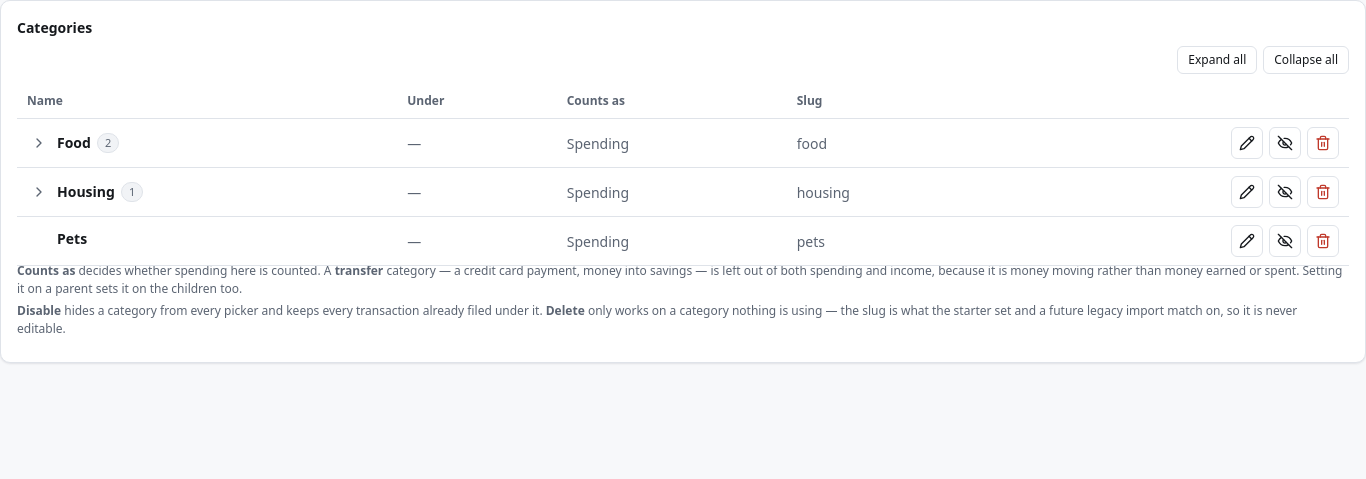
Test: CategoriesPanel accordions › opens and closes one parent without touching the others, and says what the arrow will do
Click the button named "Show 2 subcategories of Food": (39, 142) 27,130 -> 51,154
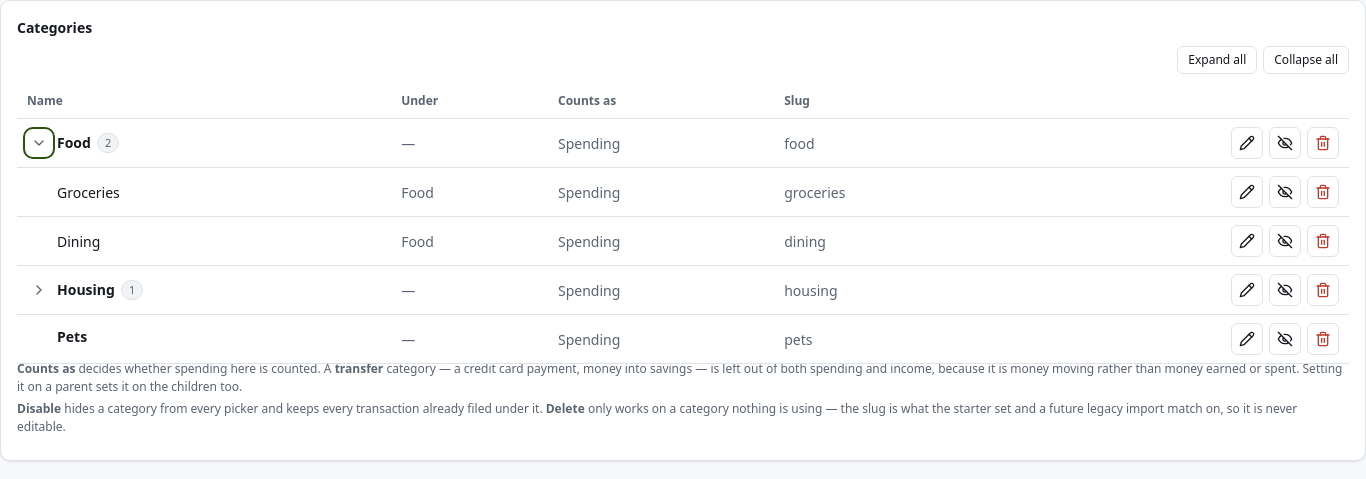
Result: the text "Groceries" is shown at 57,182 -> 120,202
Result: the text "Dining" is shown at 57,232 -> 100,250
Result: the button named "Hide 2 subcategories of Food" is expanded
Click the button named "Hide 2 subcategories of Food": (39, 142) 27,130 -> 51,154
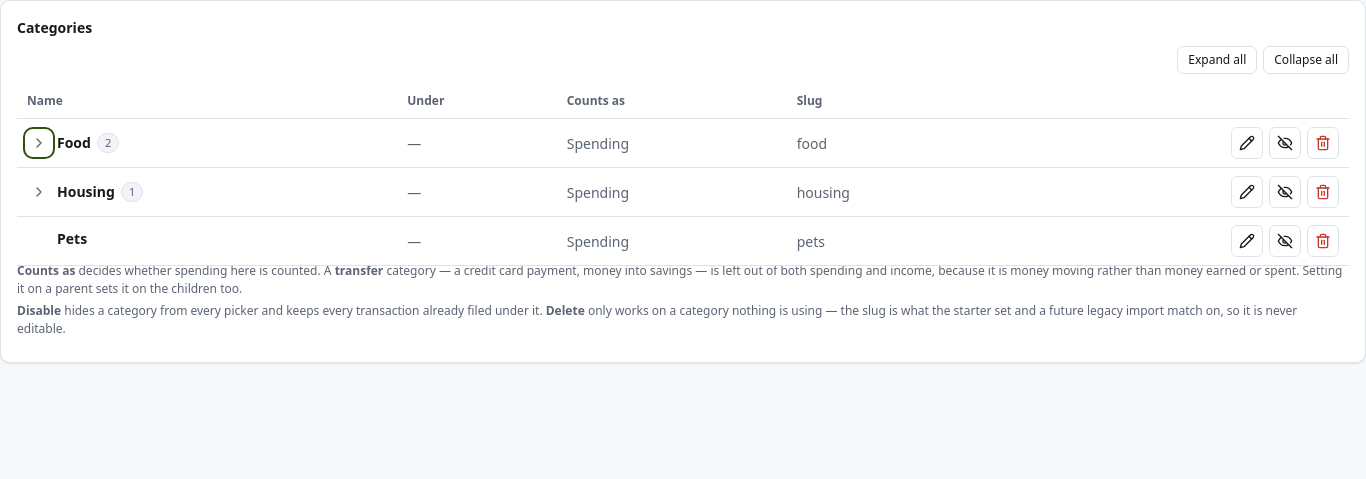
Result: the text "Groceries" is gone
